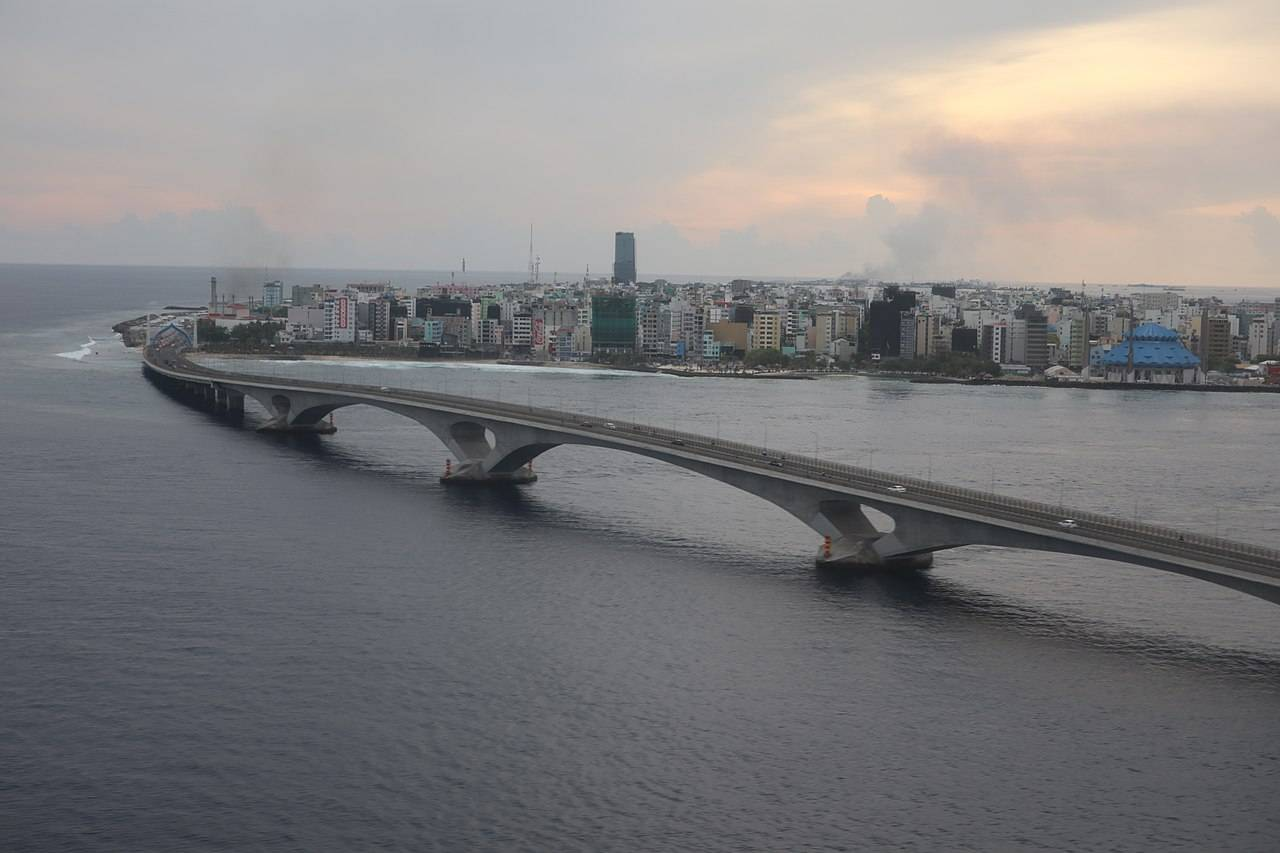bridge: (137, 325, 1274, 614)
